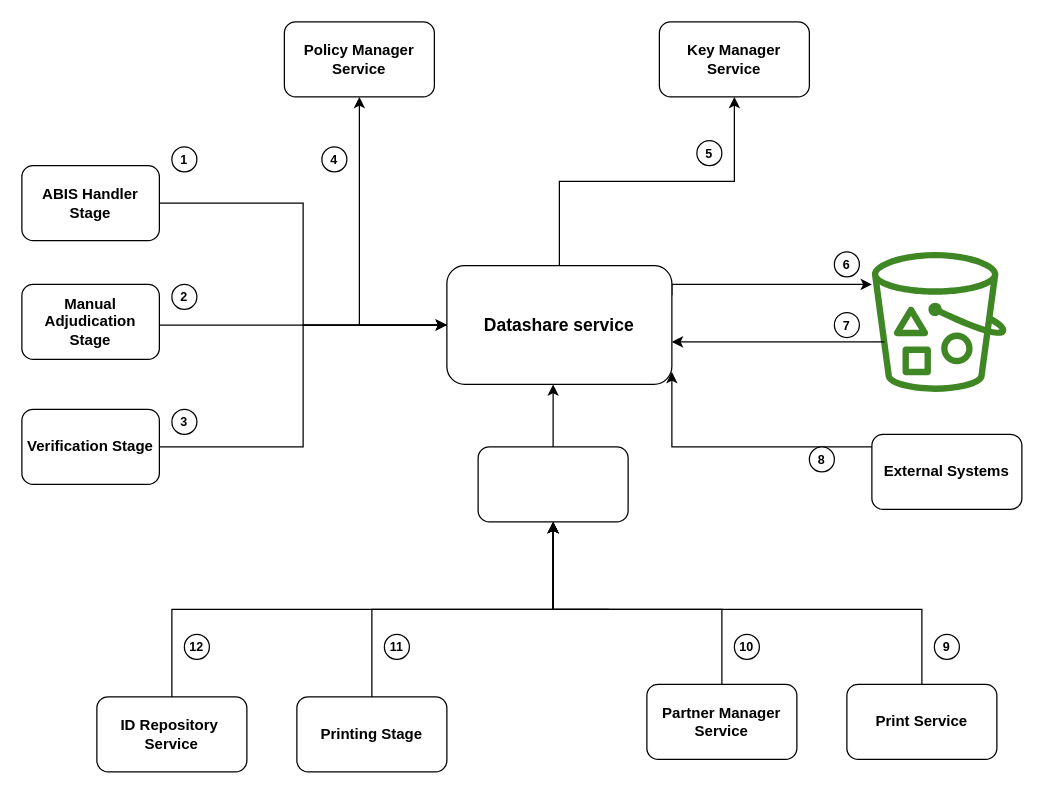
Some shapes in this 1044 by 794 pixel diagram are drawn without their labels. Here are the shapes that lost their labels. From the top down, the box of each, then its label:
(871, 251, 1006, 391): Object Store
(477, 446, 628, 522): Credential Service
